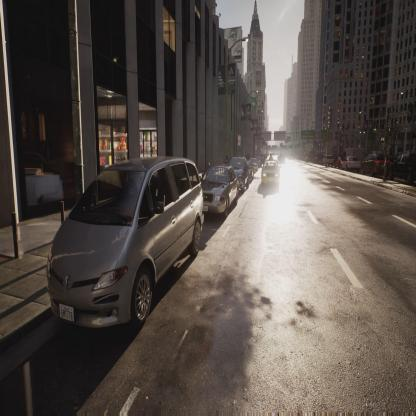License-Plate: (58, 302, 76, 327), (203, 203, 211, 218)
